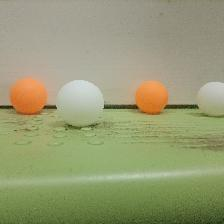WhiteBall: (56, 80, 104, 126), (196, 81, 223, 117)
YellowBall: (7, 76, 46, 114), (135, 81, 168, 113)
